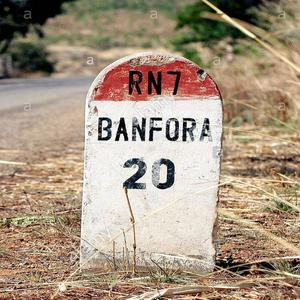kmstone: (82, 47, 216, 274)
